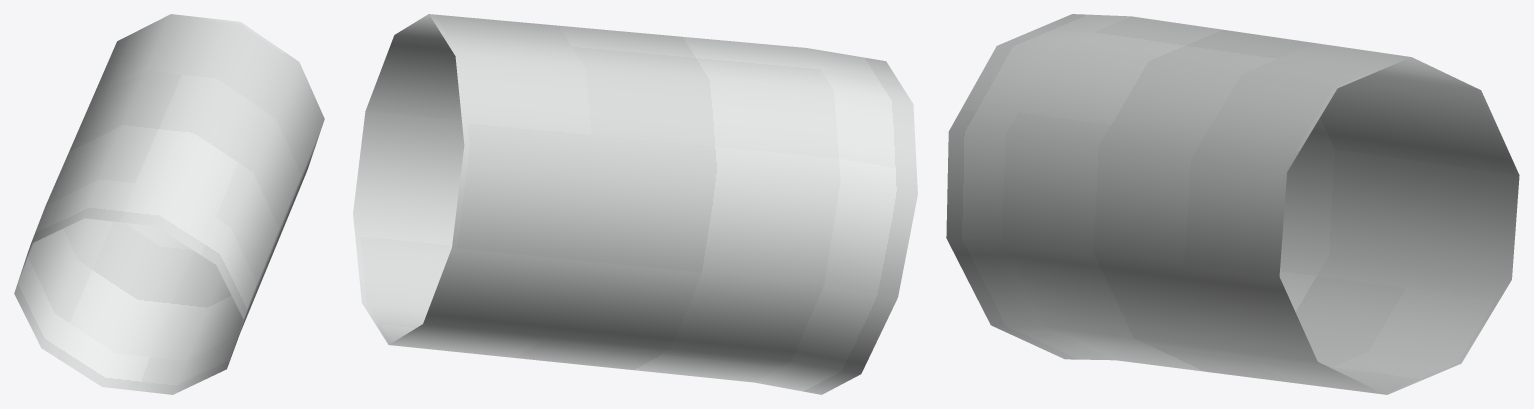
The model's file is nycsignalarm_diagonal6_c2.obj.
3 views of the same model, side by side, from view 1: azimuth 30°, elevation 25°; view 2: azimuth 150°, elevation 25°; view 3: azimuth 270°, elevation 25° (orthographic). The views are drawn at different scales.
Visible parts, largest first — view 1: nycsignalarm_diagonal6_c2; view 2: nycsignalarm_diagonal6_c2; view 3: nycsignalarm_diagonal6_c2.
Boxes of the visible parts, x1,y1,x2,y2 form: nycsignalarm_diagonal6_c2: (14, 14, 324, 394); nycsignalarm_diagonal6_c2: (353, 14, 917, 394); nycsignalarm_diagonal6_c2: (946, 14, 1519, 394).
Size of the model in its own units: 0.5446 by 0.4044 by 0.5446.
